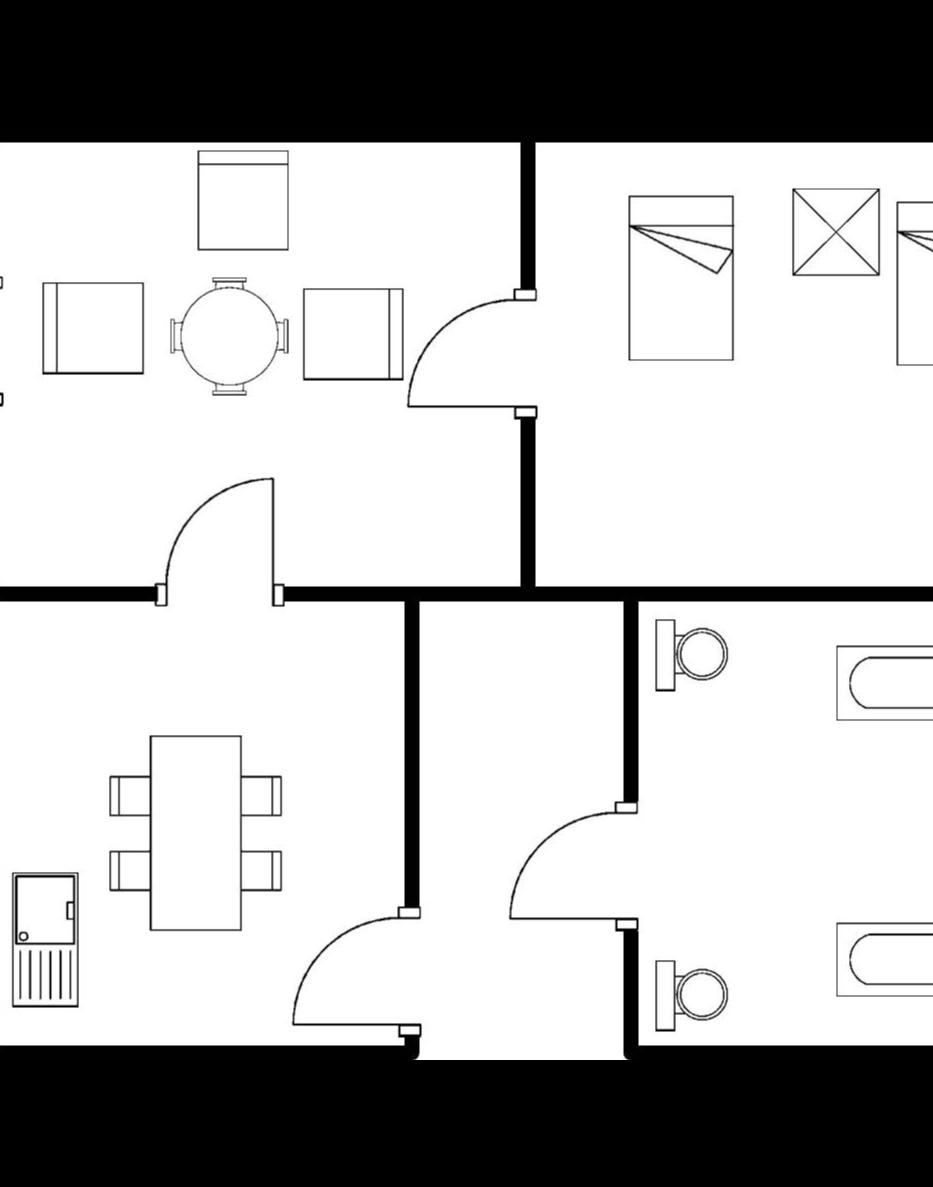bed: (619, 193, 742, 369), (890, 195, 933, 374)
dining_table: (96, 725, 290, 946)
round_table: (160, 270, 292, 407)
sink: (5, 862, 84, 1014)
toilet: (649, 615, 734, 702), (649, 952, 734, 1037)
tub: (830, 639, 933, 729), (827, 918, 933, 1005)
